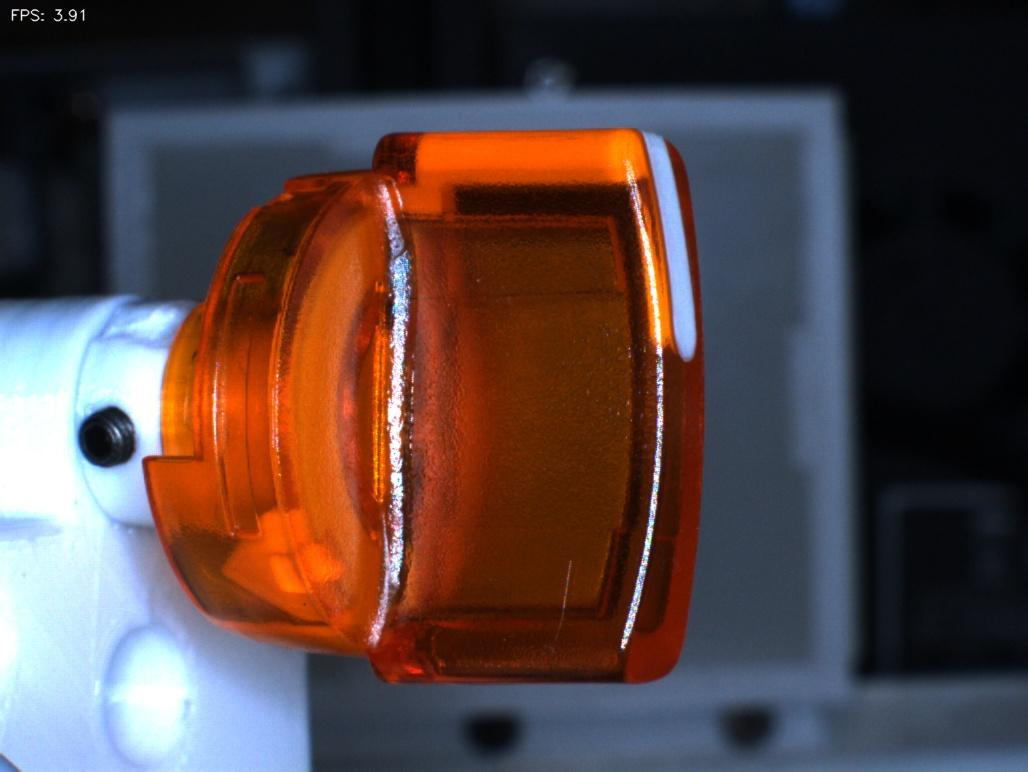Givrage: (520, 543, 595, 661)
